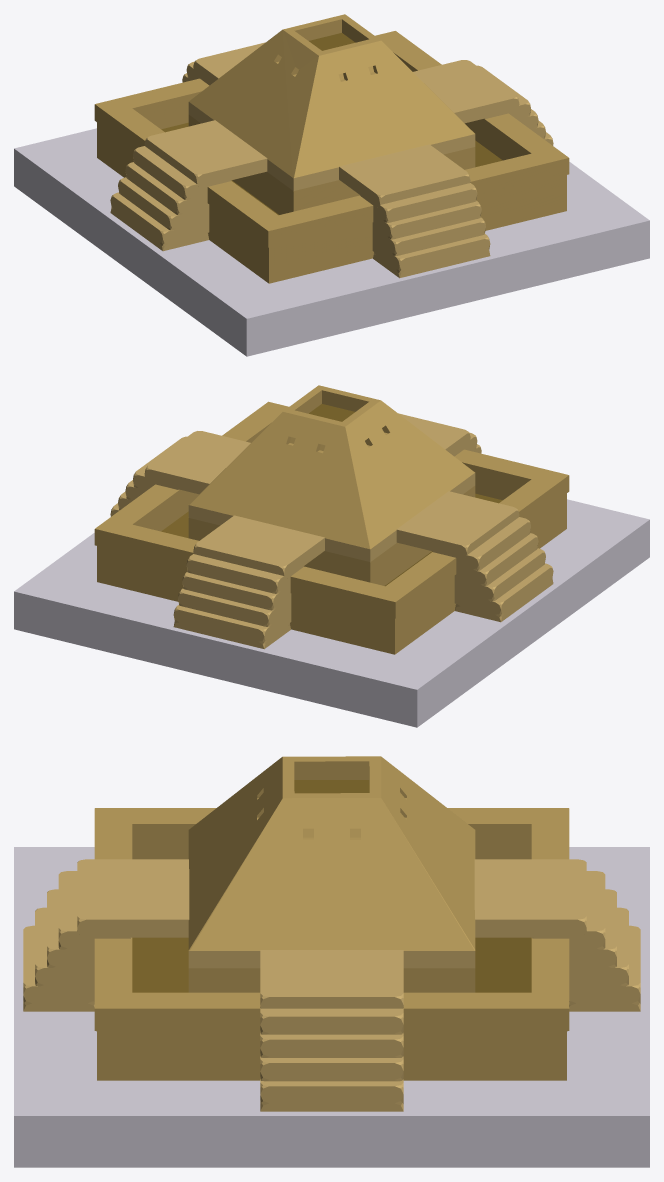
Rendered from desert_small_piramid.fbx.
The picture shows the model from 3 angles, top to bottom: view 1: azimuth 30°, elevation 25°; view 2: azimuth 150°, elevation 25°; view 3: azimuth 270°, elevation 25°; orthographic projection. The views are drawn at different scales.
Parts seen in each view (by area): view 1: main, Cube.028, front stair, left stair, right stair, back stair; view 2: main, Cube.028, back stair, left stair, right stair, front stair; view 3: main, Cube.028, right stair, front stair, back stair.
Boxes of the visible parts, x1,y1,x2,y2 form: main: (94,14,569,283); Cube.028: (14,128,649,356); front stair: (339,144,490,278); left stair: (110,120,267,251); right stair: (413,60,553,145); back stair: (182,42,265,85); main: (94,385,569,654); Cube.028: (14,499,649,727); back stair: (173,515,324,649); left stair: (396,491,553,622); right stair: (110,431,250,516); front stair: (398,413,481,456); main: (94,756,569,1080); Cube.028: (14,847,649,1167); right stair: (260,950,403,1111); front stair: (23,859,189,1011); back stair: (474,859,640,1011).
Size of the model in its own units: 271 by 120 by 271.
